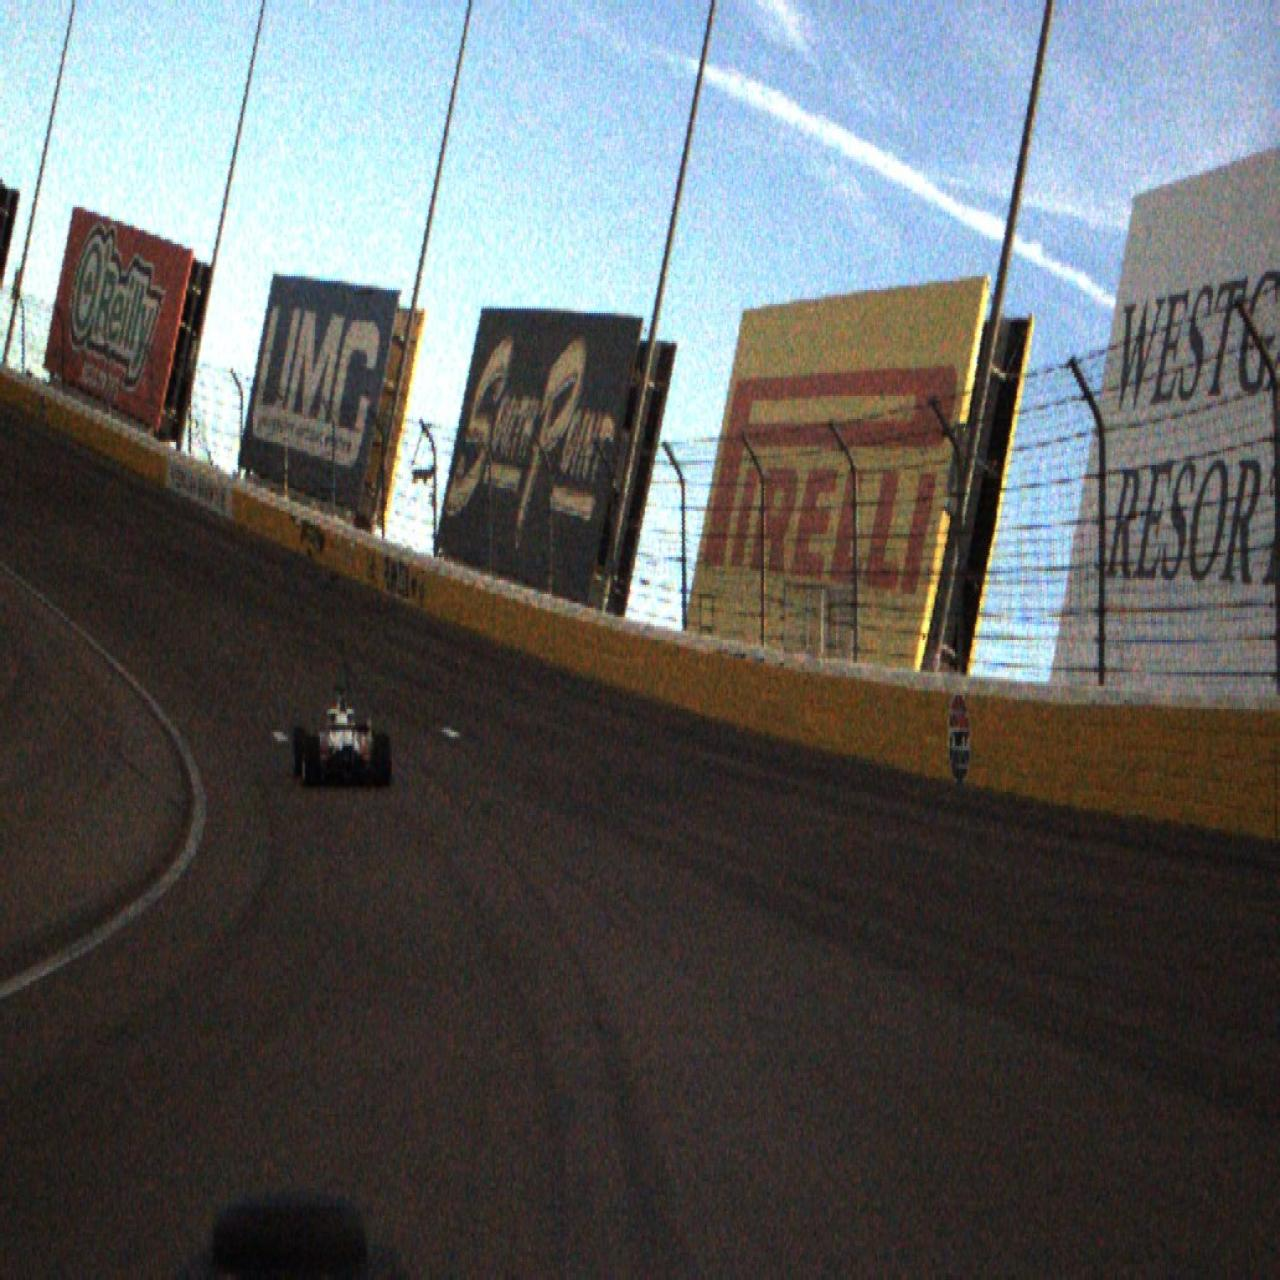AV: (292, 687, 392, 789)
Wheel: (374, 734, 392, 788), (302, 736, 320, 788), (293, 726, 307, 777)
